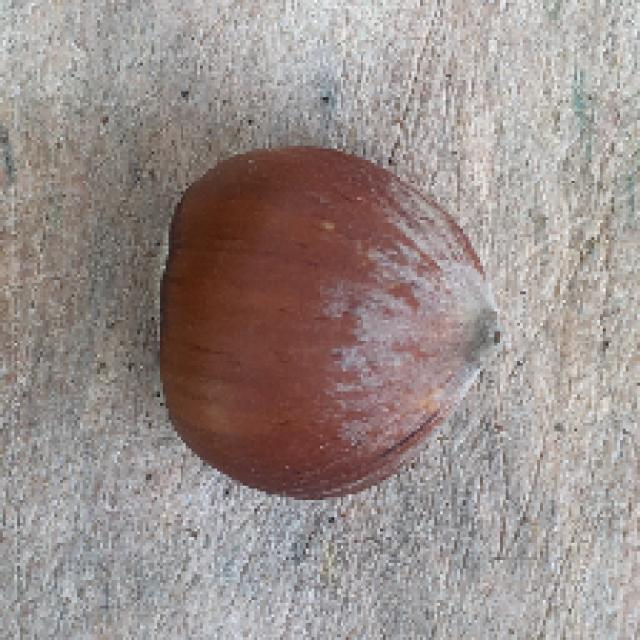qualityHazelnut: (144, 147, 506, 509)
